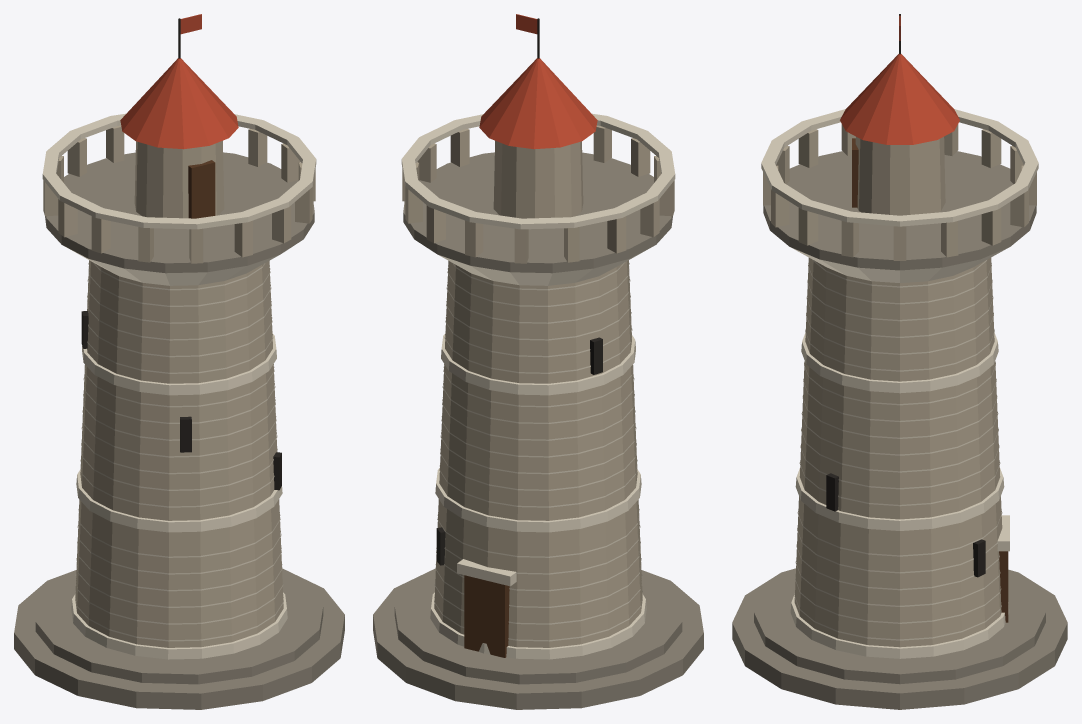
File: mirador.glb
3 renders of one model, left to right at view 1: azimuth 30°, elevation 25°; view 2: azimuth 150°, elevation 25°; view 3: azimuth 270°, elevation 25°, orthographic.
Visible parts, largest first — view 1: mirador; view 2: mirador; view 3: mirador.
Part boxes in pixels (x1,y1,x2,y2): mirador: (14,14,344,709); mirador: (373,14,703,709); mirador: (732,14,1067,709).
Size of the model in its own units: 9.2 by 18.9 by 9.2.
